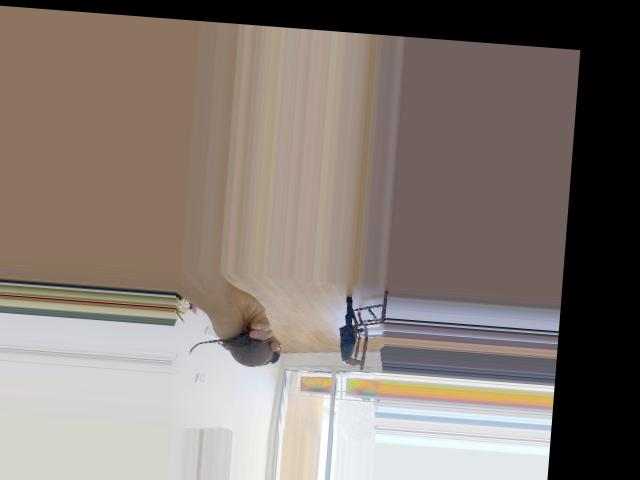beet: (189, 331, 283, 368)
